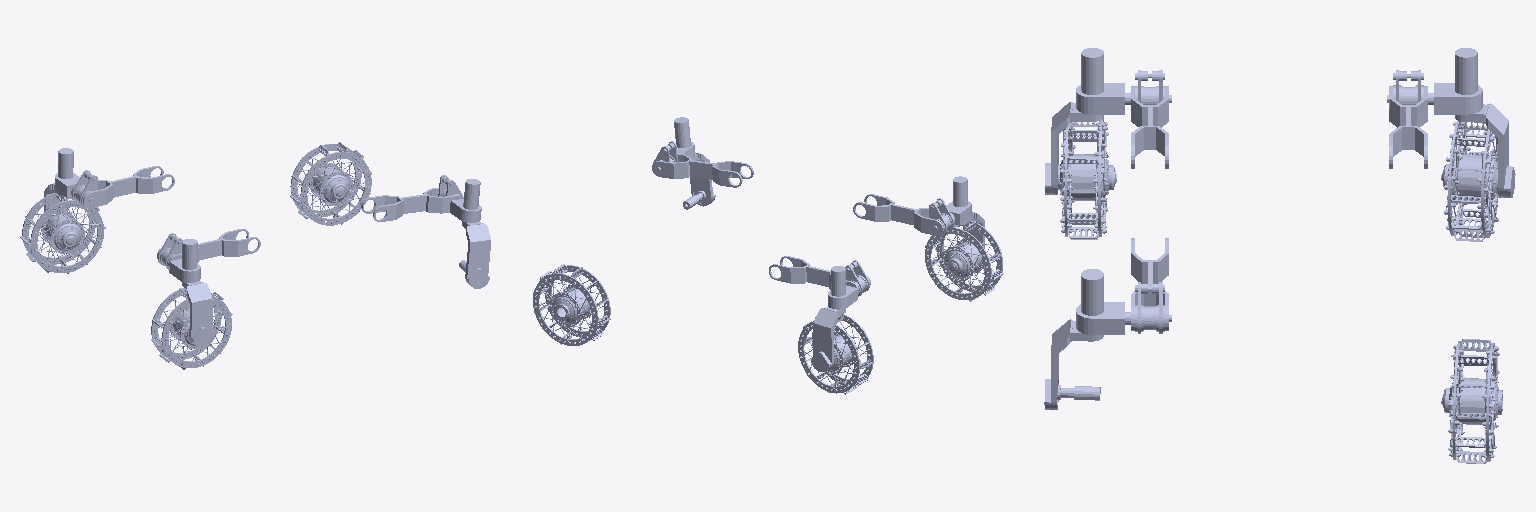
URDF robot description (rover_version3):
<?xml version="1.0" encoding="utf-8"?>
<!-- This URDF was automatically created by SolidWorks to URDF Exporter! Originally created by [author] ([email redacted]) 
     Commit Version: 1.6.0-4-g7f85cfe  Build Version: 1.6.7995.38578
     For more information, please see http://wiki.ros.org/sw_urdf_exporter -->
<robot
  name="rover_version3">
  <link
    name="base_link">
    <inertial>
      <origin
        xyz="0.0797596776154861 0.159749232708683 0.220782525461507"
        rpy="0 0 0" />
      <mass
        value="20" />
      <inertia
        ixx="0.00103089461973595"
        ixy="1.35681396229077E-10"
        ixz="-1.49365547296381E-08"
        iyy="0.00456020502866032"
        iyz="1.37219337455197E-19"
        izz="0.00496170968770875" />
    </inertial>
    <visual>
      <origin
        xyz="0 0 0"
        rpy="0 0 0" />
      <geometry>
        <mesh
          filename="package://viper/obj/viper_chassis.obj" />
      </geometry>
      <material
        name="">
        <color
          rgba="0.792156862745098 0.819607843137255 0.933333333333333 1" />
      </material>
    </visual>
    <collision>
      <origin
        xyz="0 0 0"
        rpy="0 0 0" />
      <geometry>
        <mesh
          filename="package://viper/obj/viper_chassis.obj" />
      </geometry>
    </collision>
  </link>
  <link
    name="LF_sus_link">
    <inertial>
      <origin
        xyz="0.6418 0.2067 0.0525"
        rpy="0 0 0" />
      <mass
        value="3" />
      <inertia
        ixx="1.1461723176048E-05"
        ixy="-2.68406691396172E-07"
        ixz="1.63686839635996E-06"
        iyy="1.80050461034318E-05"
        iyz="-1.20786843415189E-06"
        izz="1.75970503245523E-05" />
    </inertial>
    <visual>
      <origin
        xyz="0 0 0"
        rpy="0 0 0" />
      <geometry>
        <mesh
          filename="package://viper/obj/viper_L_bt_sus.obj" />
      </geometry>
      <material
        name="">
        <color
          rgba="0.792156862745098 0.819607843137255 0.933333333333333 1" />
      </material>
    </visual>
    <collision>
      <origin
        xyz="0 0 0"
        rpy="0 0 0" />
      <geometry>
        <mesh
          filename="package://viper/obj/viper_L_bt_sus.obj" />
      </geometry>
    </collision>
  </link>
  <joint
    name="LF_sus_joint"
    type="revolute">
    <origin
      xyz="0.16666 0.24388 0.20605"
      rpy="0 0.0073225 0" />
    <parent
      link="base_link" />
    <child
      link="LF_sus_link" />
    <axis
      xyz="0 -1 0" />
    <limit
      lower="-0.7"
      upper="0.7"
      effort="5"
      velocity="1" />
    <dynamics damping="0.1" friction="0.3125"/>
  </joint>
  <link
    name="LF_steer_link">
    <inertial>
      <origin
        xyz="0.6418 6067 0.0"
        rpy="0 0 0" />
      <mass
        value="1" />
      <inertia
        ixx="1.35851685717712E-05"
        ixy="-1.09983746723962E-07"
        ixz="1.42857893027883E-07"
        iyy="1.18047874893425E-05"
        iyz="2.32545470303457E-06"
        izz="3.46928434336137E-06" />
    </inertial>
    <visual>
      <origin
        xyz="0 0 0"
        rpy="0 0 0" />
      <geometry>
        <mesh
          filename="package://viper/obj/viper_L_steer.obj" />
      </geometry>
      <material
        name="">
        <color
          rgba="0.792156862745098 0.819607843137255 0.933333333333333 1" />
      </material>
    </visual>
    <collision>
      <origin
        xyz="0 0 0"
        rpy="0 0 0" />
      <geometry>
        <mesh
          filename="package://viper/obj/viper_L_steer.obj" />
      </geometry>
    </collision>
  </link>
  <joint
    name="LF_steer_joint"
    type="revolute">
    <origin
      xyz="0.1104 0.062 0.016442"
      rpy="0 0.21866 0" />
    <parent
      link="LF_sus_link" />
    <child
      link="LF_steer_link" />
    <axis
      xyz="0 0 -1" />
    <limit
      lower="-0.2"
      upper="0.2"
      effort="10"
      velocity="1" />
    <dynamics damping="0.1" friction="0.3125"/>
  </joint>
  <link
    name="LF_wheel_link">
    <inertial>
      <origin
        xyz="0.000128860164909594 0.0250729972721997 0.00036393433755022"
        rpy="0 0 0" />
      <mass
        value="5" />
      <inertia
        ixx="1.75353631469335E-05"
        ixy="-1.10896528379914E-09"
        ixz="1.48697799203701E-07"
        iyy="2.65110723651584E-05"
        iyz="-3.11653729024746E-09"
        izz="1.79018535265846E-05" />
    </inertial>
    <visual>
      <origin
        xyz="0 0 0"
        rpy="0 0 0" />
      <geometry>
        <mesh
          filename="package://rover_version3/meshes/LF_wheel_link.STL" />
      </geometry>
      <material
        name="">
        <color
          rgba="0.792156862745098 0.819607843137255 0.933333333333333 1" />
      </material>
    </visual>
    <collision>
      <origin
        xyz="0 0 0"
        rpy="0 0 0" />
      <geometry>
        <mesh
          filename="package://rover_version3/meshes/LF_wheel_link.STL" />
      </geometry>
    </collision>
  </link>
  <joint
    name="LF_wheel_joint"
    type="revolute">
    <origin
      xyz="-0.0011763 -0.019116 -0.10825"
      rpy="0 -0.2264 -0.061459" />
    <parent
      link="LF_steer_link" />
    <child
      link="LF_wheel_link" />
    <axis
      xyz="0 1 0" />
    <limit
      effort="10"
      velocity="30" />
    <dynamics damping="0.5" friction="1"/>
  </joint>
  <link
    name="RF_sus_link">
    <inertial>
      <origin
        xyz="0.0902489832880631 -0.0016018657685111 -0.0039597393124956"
        rpy="0 0 0" />
      <mass
        value="3" />
      <inertia
        ixx="1.11589178190171E-05"
        ixy="1.21681623087089E-07"
        ixz="8.62915160690039E-07"
        iyy="1.80050456540428E-05"
        iyz="1.23133307205556E-06"
        izz="1.78998560826054E-05" />
    </inertial>
    <visual>
      <origin
        xyz="0 0 0"
        rpy="0 0 0" />
      <geometry>
        <mesh
          filename="package://rover_version3/meshes/RF_sus_link.STL" />
      </geometry>
      <material
        name="">
        <color
          rgba="0.792156862745098 0.819607843137255 0.933333333333333 1" />
      </material>
    </visual>
    <collision>
      <origin
        xyz="0 0 0"
        rpy="0 0 0" />
      <geometry>
        <mesh
          filename="package://rover_version3/meshes/RF_sus_link.STL" />
      </geometry>
    </collision>
  </link>
  <joint
    name="RF_sus_joint"
    type="revolute">
    <origin
      xyz="0.16666 0.04062 0.20605"
      rpy="0 0 0" />
    <parent
      link="base_link" />
    <child
      link="RF_sus_link" />
    <axis
      xyz="0 -1 0" />
    <limit
      lower="-0.7"
      upper="0.7"
      effort="5"
      velocity="1" />
    <dynamics damping="0.1" friction="0.3125"/>
  </joint>
  <link
    name="RF_steer_link">
    <inertial>
      <origin
        xyz="-0.00104793735848838 -0.0219232562132083 -0.0833418115306279"
        rpy="0 0 0" />
      <mass
        value="1" />
      <inertia
        ixx="1.35878425466297E-05"
        ixy="-8.56071267405509E-08"
        ixz="-1.11055605351822E-07"
        iyy="1.18021135144838E-05"
        iyz="-2.32719028143076E-06"
        izz="3.46928434336134E-06" />
    </inertial>
    <visual>
      <origin
        xyz="0 0 0"
        rpy="0 0 0" />
      <geometry>
        <mesh
          filename="package://rover_version3/meshes/RF_steer_link.STL" />
      </geometry>
      <material
        name="">
        <color
          rgba="0.792156862745098 0.819607843137255 0.933333333333333 1" />
      </material>
    </visual>
    <collision>
      <origin
        xyz="0 0 0"
        rpy="0 0 0" />
      <geometry>
        <mesh
          filename="package://rover_version3/meshes/RF_steer_link.STL" />
      </geometry>
    </collision>
  </link>
  <joint
    name="RF_steer_joint"
    type="revolute">
    <origin
      xyz="0.10763 -0.027 0.029557"
      rpy="0 0.098502 0" />
    <parent
      link="RF_sus_link" />
    <child
      link="RF_steer_link" />
    <axis
      xyz="0 0 -1" />
    <limit
      lower="-0.2"
      upper="0.2"
      effort="10"
      velocity="1" />
    <dynamics damping="0.1" friction="0.3125"/>
  </joint>
  <link
    name="RF_wheel_link">
    <inertial>
      <origin
        xyz="0.000295740339524175 -0.0250729973917038 -0.000248174677657836"
        rpy="0 0 0" />
      <mass
        value="5" />
      <inertia
        ixx="1.77598239457965E-05"
        ixy="2.53724039131848E-09"
        ixz="-2.32359905280223E-07"
        iyy="2.6511072421314E-05"
        iyz="-2.12231215519111E-09"
        izz="1.76773927751476E-05" />
    </inertial>
    <visual>
      <origin
        xyz="0 0 0"
        rpy="0 0 0" />
      <geometry>
        <mesh
          filename="package://viper/obj/viper_cylwheel.obj" />
      </geometry>
      <material
        name="">
        <color
          rgba="0.792156862745098 0.819607843137255 0.933333333333333 1" />
      </material>
    </visual>
    <collision>
      <origin
        xyz="0 0 0"
        rpy="0 0 0" />
      <geometry>
        <mesh
          filename="package://viper/obj/viper_cylwheel.obj" />
      </geometry>
    </collision>
  </link>
  <joint
    name="RF_wheel_joint"
    type="revolute">
    <origin
      xyz="0.00091489 0.01913 -0.10825"
      rpy="0 -0.098614 -0.047789" />
    <parent
      link="RF_steer_link" />
    <child
      link="RF_wheel_link" />
    <axis
      xyz="0 1 0" />
    <limit
      effort="10"
      velocity="30" />
   <dynamics damping="0.5" friction="1"/>
  </joint>
  <link
    name="LH_sus_link">
    <inertial>
      <origin
        xyz="-0.0897096627634609 0.0366018653962163 0.0106176683691153"
        rpy="0 0 0" />
      <mass
        value="3" />
      <inertia
        ixx="1.10593915749623E-05"
        ixy="-7.80907440373878E-08"
        ixz="2.52617515382323E-07"
        iyy="1.80050455136856E-05"
        iyz="-1.23486411965248E-06"
        izz="1.79993823530536E-05" />
    </inertial>
    <visual>
      <origin
        xyz="0 0 0"
        rpy="0 0 0" />
      <geometry>
        <mesh
          filename="package://rover_version3/meshes/LH_sus_link.STL" />
      </geometry>
      <material
        name="">
        <color
          rgba="0.792156862745098 0.819607843137255 0.933333333333333 1" />
      </material>
    </visual>
    <collision>
      <origin
        xyz="0 0 0"
        rpy="0 0 0" />
      <geometry>
        <mesh
          filename="package://rover_version3/meshes/LH_sus_link.STL" />
      </geometry>
    </collision>
  </link>
  <joint
    name="LH_sus_joint"
    type="revolute">
    <origin
      xyz="-0.0074481 0.24388 0.20605"
      rpy="0 -0.051859 0" />
    <parent
      link="base_link" />
    <child
      link="LH_sus_link" />
    <axis
      xyz="0 -1 0" />
    <limit
      lower="-0.7"
      upper="0.7"
      effort="5"
      velocity="1" />
    <dynamics damping="0.1" friction="0.3125"/>
  </joint>
  <link
    name="LH_steer_link">
    <inertial>
      <origin
        xyz="0.00314887201868978 0.0217212324859138 -0.0833418115306286"
        rpy="0 0 0" />
      <mass
        value="1" />
      <inertia
        ixx="1.35549978282775E-05"
        ixy="-2.54757868846835E-07"
        ixz="3.34074184238735E-07"
        iyy="1.18349582328361E-05"
        iyz="2.30576286571084E-06"
        izz="3.46928434336134E-06" />
    </inertial>
    <visual>
      <origin
        xyz="0 0 0"
        rpy="0 0 0" />
      <geometry>
        <mesh
          filename="package://rover_version3/meshes/LH_steer_link.STL" />
      </geometry>
      <material
        name="">
        <color
          rgba="0.792156862745098 0.819607843137255 0.933333333333333 1" />
      </material>
    </visual>
    <collision>
      <origin
        xyz="0 0 0"
        rpy="0 0 0" />
      <geometry>
        <mesh
          filename="package://rover_version3/meshes/LH_steer_link.STL" />
      </geometry>
    </collision>
  </link>
  <joint
    name="LH_steer_joint"
    type="revolute">
    <origin
      xyz="-0.10147 0.062 0.046495"
      rpy="0 0.063154 0" />
    <parent
      link="LH_sus_link" />
    <child
      link="LH_steer_link" />
    <axis
      xyz="0 0 -1" />
    <limit
      lower="-0.2"
      upper="0.2"
      effort="10"
      velocity="1" />
    <dynamics damping="0.1" friction="0.3125"/>
  </joint>
  <link
    name="LH_wheel_link">
    <inertial>
      <origin
        xyz="0.00020925631318458 0.0250729952229727 -0.000324445436222232"
        rpy="0 0 0" />
      <mass
        value="5" />
      <inertia
        ixx="1.76210396593133E-05"
        ixy="-1.78846958383675E-09"
        ixz="-2.14872751644477E-07"
        iyy="2.65110708659707E-05"
        iyz="2.78231532272225E-09"
        izz="1.78161754809893E-05" />
    </inertial>
    <visual>
      <origin
        xyz="0 0 0"
        rpy="0 0 0" />
      <geometry>
        <mesh
          filename="package://rover_version3/meshes/LH_wheel_link.STL" />
      </geometry>
      <material
        name="">
        <color
          rgba="0.792156862745098 0.819607843137255 0.933333333333333 1" />
      </material>
    </visual>
    <collision>
      <origin
        xyz="0 0 0"
        rpy="0 0 0" />
      <geometry>
        <mesh
          filename="package://rover_version3/meshes/LH_wheel_link.STL" />
      </geometry>
    </collision>
  </link>
  <joint
    name="LH_wheel_joint"
    type="revolute">
    <origin
      xyz="-0.0027481 -0.018954 -0.10825"
      rpy="0 -0.011413 -0.14399" />
    <parent
      link="LH_steer_link" />
    <child
      link="LH_wheel_link" />
    <axis
      xyz="0 1 0" />
    <limit
      effort="10"
      velocity="30" />
    <dynamics damping="0.5" friction="1"/>
  </joint>
  <link
    name="RH_sus_link">
    <inertial>
      <origin
        xyz="-0.0901499833953327 -0.00160186903191516 0.00589242165063225"
        rpy="0 0 0" />
      <mass
        value="3" />
      <inertia
        ixx="1.10540732565972E-05"
        ixy="1.31117875535546E-08"
        ixz="-1.09985045755929E-07"
        iyy="1.80050462823542E-05"
        iyz="1.23726162686239E-06"
        izz="1.80046996271622E-05" />
    </inertial>
    <visual>
      <origin
        xyz="0 0 0"
        rpy="0 0 0" />
      <geometry>
        <mesh
          filename="package://rover_version3/meshes/RH_sus_link.STL" />
      </geometry>
      <material
        name="">
        <color
          rgba="0.792156862745098 0.819607843137255 0.933333333333333 1" />
      </material>
    </visual>
    <collision>
      <origin
        xyz="0 0 0"
        rpy="0 0 0" />
      <geometry>
        <mesh
          filename="package://rover_version3/meshes/RH_sus_link.STL" />
      </geometry>
    </collision>
  </link>
  <joint
    name="RH_sus_joint"
    type="revolute">
    <origin
      xyz="-0.0074481 0.04062 0.20605"
      rpy="0 0 0" />
    <parent
      link="base_link" />
    <child
      link="RH_sus_link" />
    <axis
      xyz="0 1 0" />
    <limit
      lower="-0.7"
      upper="0.7"
      effort="5"
      velocity="1" />
    <dynamics damping="0.1" friction="0.3125"/>
  </joint>
  <link
    name="RH_steer_link">
    <inertial>
      <origin
        xyz="-0.000757709530648687 -0.0219352048534746 -0.0833418115306277"
        rpy="0 0 0" />
      <mass
        value="1" />
      <inertia
        ixx="1.35897954680785E-05"
        ixy="-6.19465714802663E-08"
        ixz="-8.02474526225233E-08"
        iyy="1.1800160593035E-05"
        iyz="-2.32845620526023E-06"
        izz="3.46928434336153E-06" />
    </inertial>
    <visual>
      <origin
        xyz="0 0 0"
        rpy="0 0 0" />
      <geometry>
        <mesh
          filename="package://rover_version3/meshes/RH_steer_link.STL" />
      </geometry>
      <material
        name="">
        <color
          rgba="0.792156862745098 0.819607843137255 0.933333333333333 1" />
      </material>
    </visual>
    <collision>
      <origin
        xyz="0 0 0"
        rpy="0 0 0" />
      <geometry>
        <mesh
          filename="package://rover_version3/meshes/RH_steer_link.STL" />
      </geometry>
    </collision>
  </link>
  <joint
    name="RH_steer_joint"
    type="revolute">
    <origin
      xyz="-0.10378 -0.027 0.041102"
      rpy="0 0.010597 0" />
    <parent
      link="RH_sus_link" />
    <child
      link="RH_steer_link" />
    <axis
      xyz="0 0 -1" />
    <limit
      lower="-0.2"
      upper="0.2"
      effort="10"
      velocity="1" />
    <dynamics damping="0.1" friction="0.3125"/>
  </joint>
  <link
    name="RH_wheel_link">
    <inertial>
      <origin
        xyz="0.000255617884660497 -0.0250729975333933 -0.000289331209891608"
        rpy="0 0 0" />
      <mass
        value="5" />
      <inertia
        ixx="1.76897775035031E-05"
        ixy="2.19402544688414E-09"
        ixz="-2.34219186721211E-07"
        iyy="2.65110725420512E-05"
        iyz="-2.47551282580446E-09"
        izz="1.77474393376445E-05" />
    </inertial>
    <visual>
      <origin
        xyz="0 0 0"
        rpy="0 0 0" />
      <geometry>
        <mesh
          filename="package://rover_version3/meshes/RH_wheel_link.STL" />
      </geometry>
      <material
        name="">
        <color
          rgba="0.792156862745098 0.819607843137255 0.933333333333333 1" />
      </material>
    </visual>
    <collision>
      <origin
        xyz="0 0 0"
        rpy="0 0 0" />
      <geometry>
        <mesh
          filename="package://rover_version3/meshes/RH_wheel_link.STL" />
      </geometry>
    </collision>
  </link>
  <joint
    name="RH_wheel_joint"
    type="revolute">
    <origin
      xyz="0.00066164 0.01914 -0.10825"
      rpy="0 -0.010604 -0.034554" />
    <parent
      link="RH_steer_link" />
    <child
      link="RH_wheel_link" />
    <axis
      xyz="0 1 0" />
    <limit
      effort="10"
      velocity="30" />
    <dynamics damping="0.5" friction="1"/>
  </joint>
</robot>

--- Render facts (derived) ---
Views: 3 orthographic renders of the robot side by side, from view 1: azimuth 30°, elevation 25°; view 2: azimuth 150°, elevation 25°; view 3: azimuth 270°, elevation 25°.
Robot: rover_version3 — 13 links, 12 joints (12 revolute); root link base_link; default pose: all joints at 0.
Visible links, largest first — view 1: LF_wheel_link, LH_wheel_link, RH_wheel_link, LH_sus_link, RF_sus_link, RH_sus_link, RF_steer_link, RH_steer_link; view 2: LF_wheel_link, RH_wheel_link, RH_sus_link, LH_wheel_link, RF_sus_link, LH_sus_link, LH_steer_link, RF_steer_link; view 3: LH_sus_link, RH_sus_link, RF_sus_link, LH_wheel_link, LF_wheel_link, RH_wheel_link, RF_steer_link, LH_steer_link, RH_steer_link.
Boxes of the visible links, <box> form: LF_wheel_link: <box>290,142,371,225</box>; LH_wheel_link: <box>20,193,105,273</box>; RH_wheel_link: <box>151,288,232,369</box>; LH_sus_link: <box>55,148,174,207</box>; RF_sus_link: <box>361,175,481,222</box>; RH_sus_link: <box>157,229,260,282</box>; RF_steer_link: <box>459,221,490,288</box>; RH_steer_link: <box>182,281,213,347</box>; LF_wheel_link: <box>533,264,610,345</box>; RH_wheel_link: <box>925,221,1003,301</box>; RH_sus_link: <box>853,176,971,235</box>; LH_wheel_link: <box>798,314,873,394</box>; RF_sus_link: <box>652,117,753,187</box>; LH_sus_link: <box>769,256,870,309</box>; LH_steer_link: <box>811,307,845,371</box>; RF_steer_link: <box>683,152,715,209</box>; LH_sus_link: <box>1387,48,1482,168</box>; RH_sus_link: <box>1076,48,1171,168</box>; RF_sus_link: <box>1076,238,1171,334</box>; LH_wheel_link: <box>1441,120,1500,241</box>; LF_wheel_link: <box>1441,339,1502,463</box>; RH_wheel_link: <box>1058,119,1116,239</box>; RF_steer_link: <box>1044,319,1103,409</box>; LH_steer_link: <box>1455,103,1515,197</box>; RH_steer_link: <box>1045,102,1103,194</box>.
Size in the robot's own frame: 0.4659 by 0.3685 by 0.1808 metres.
Meshes: 13 distinct files referenced, 9 mesh visuals loaded (9 binary STL); not drawn: 4 (reference not matched to a file when rendering).